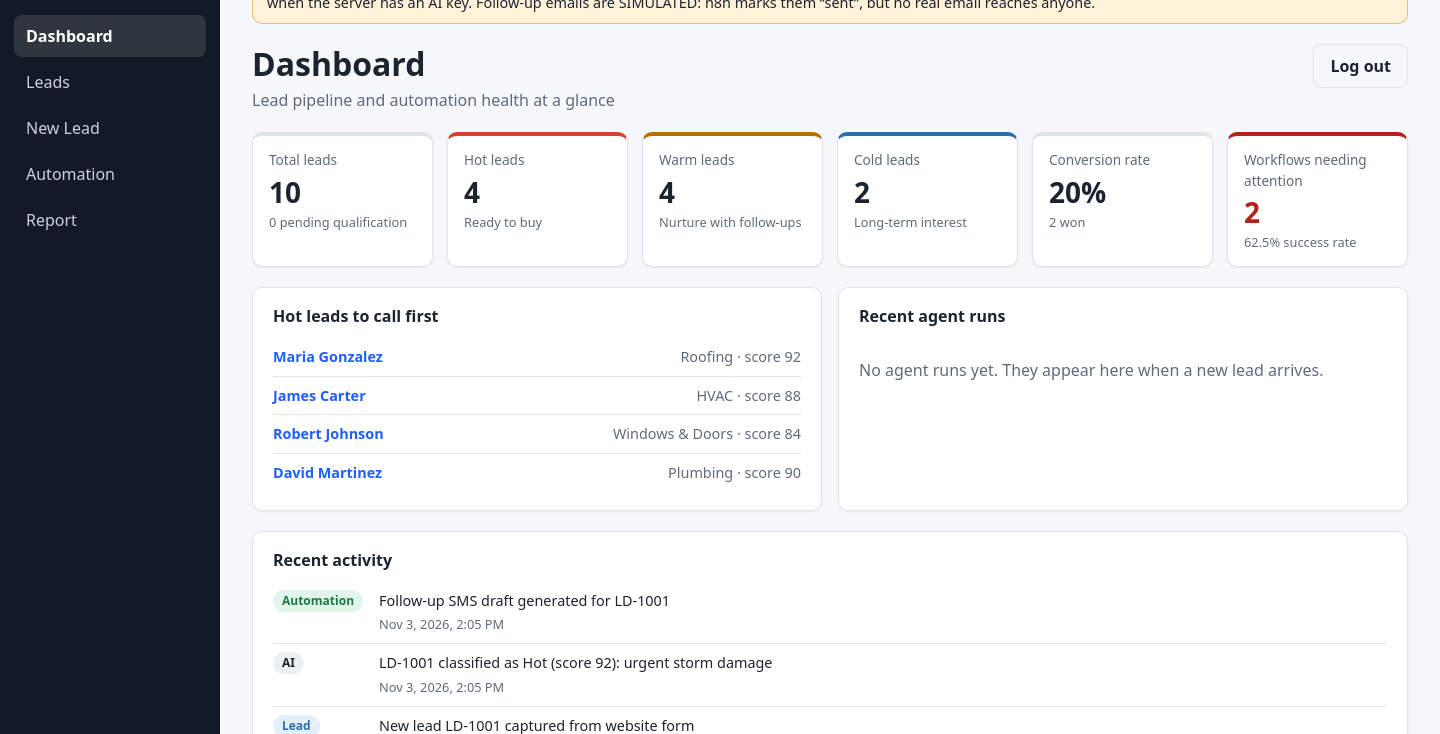
Test: lead detail: AI qualification › a failed re-run of a classified lead keeps its class in the table and offers "Retry AI"
Expected: the heading "Hot leads to call first" is shown, x1=273 y1=305 x2=438 y2=327
Click the button "Leads": {"x": 110, "y": 82} x1=14 y1=61 x2=206 y2=103
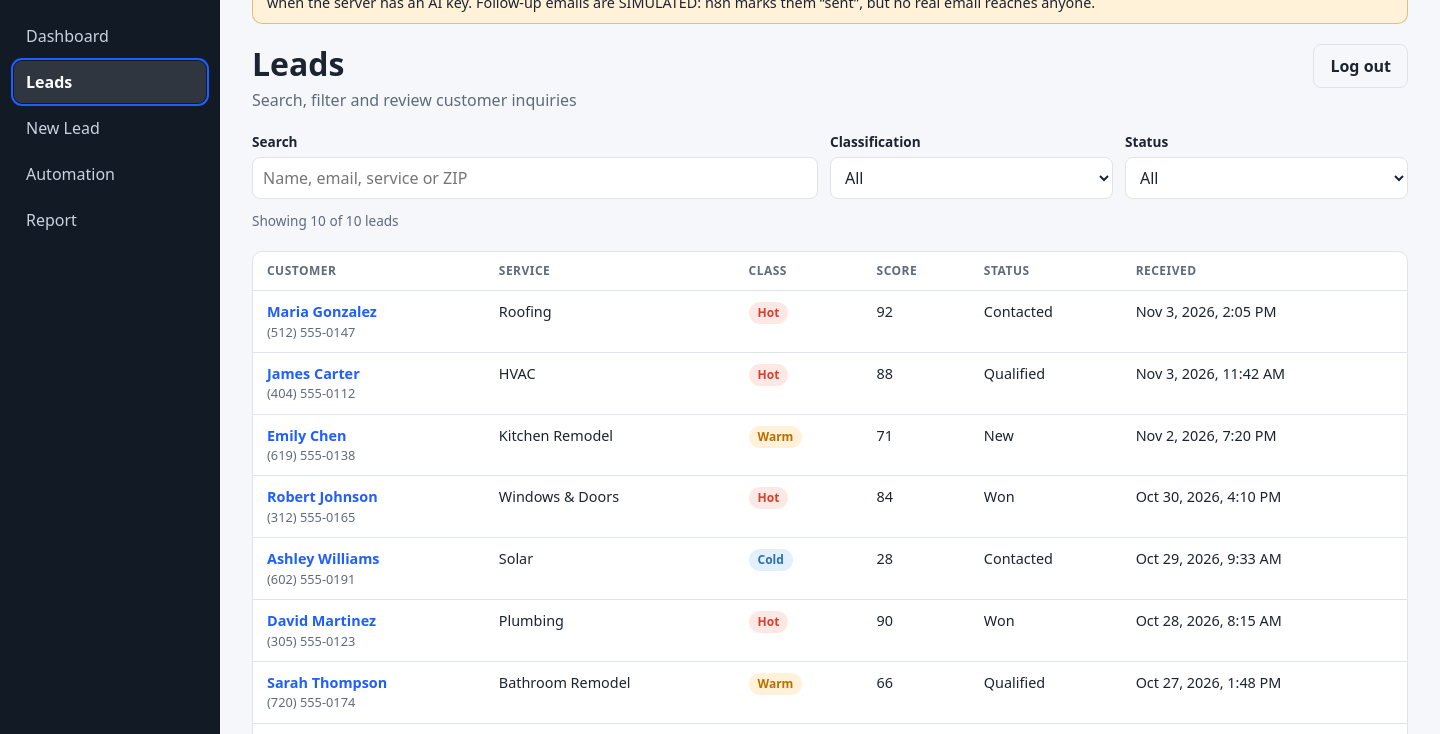
Click the button "Ashley Williams": {"x": 323, "y": 559} x1=267 y1=548 x2=380 y2=570
(page scrolled)
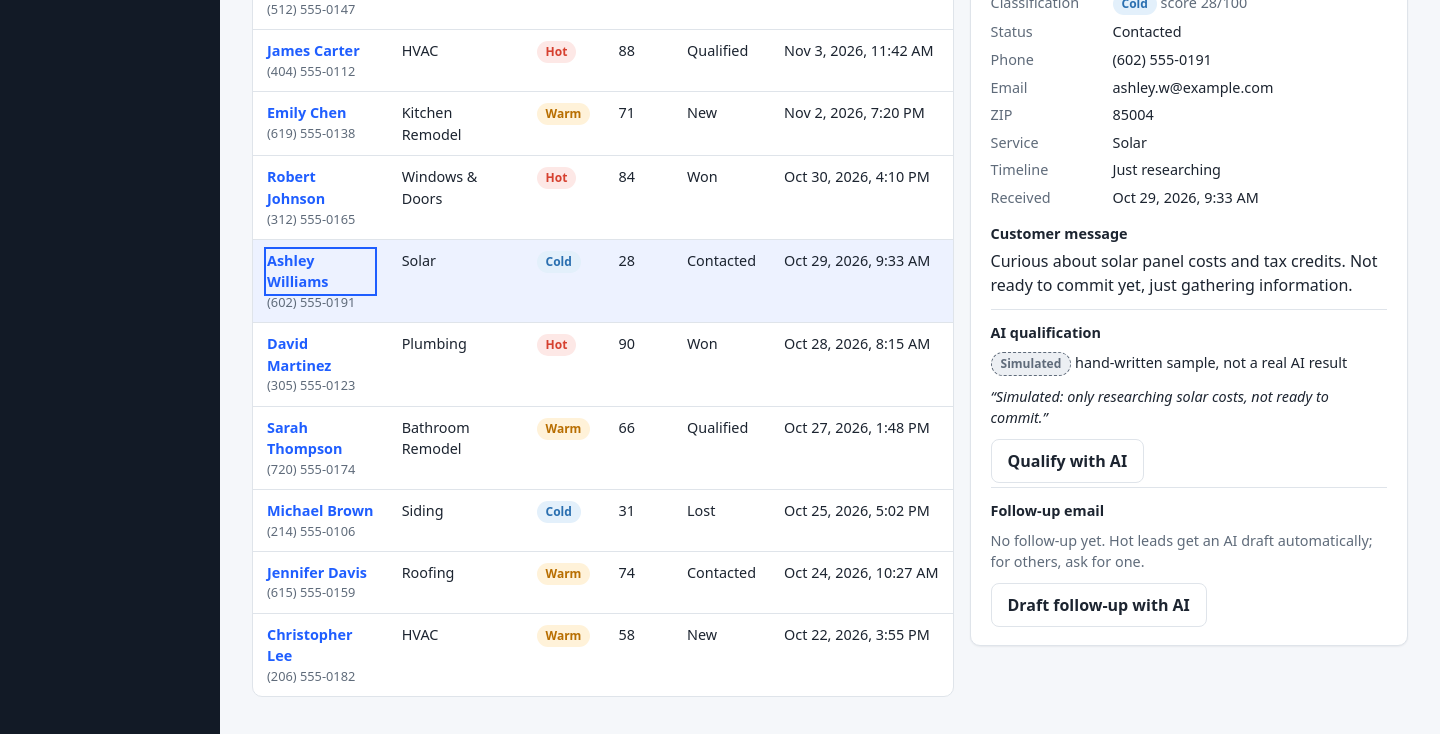
Click the button "Qualify with AI": {"x": 1067, "y": 461} x1=990 y1=439 x2=1144 y2=483
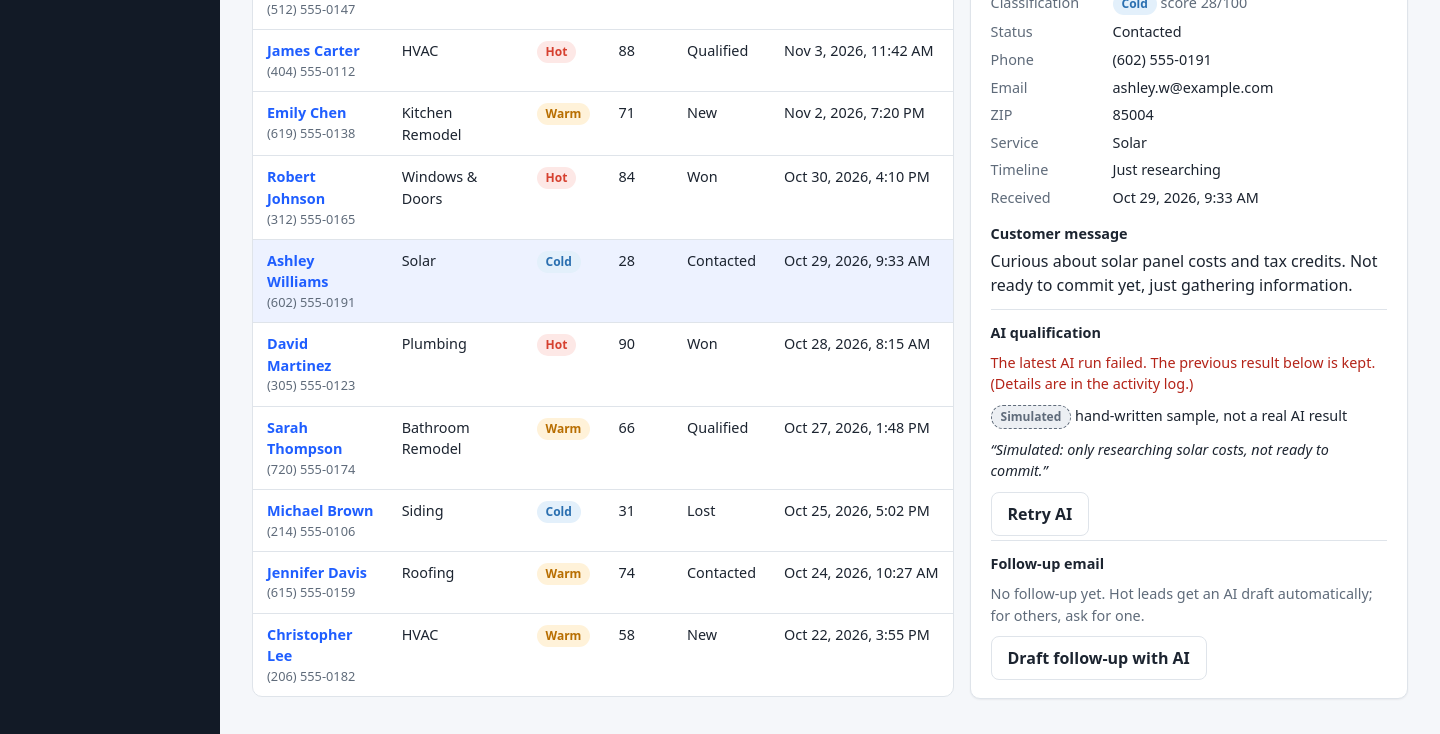
Result: the 2nd text "Cold" is shown at x1=536 y1=251 x2=581 y2=273
Result: the text "The latest AI run failed. The previous result below is kept" is shown at x1=990 y1=353 x2=1375 y2=393
Result: the button "Retry AI" is shown at x1=990 y1=492 x2=1089 y2=536
